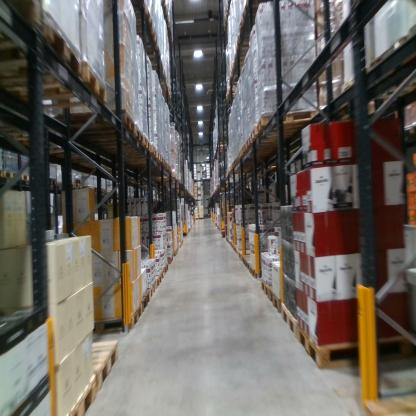pallet: (1, 59, 114, 128), (1, 21, 92, 95), (298, 319, 416, 372), (69, 339, 121, 396), (53, 107, 137, 136), (256, 105, 326, 134), (90, 303, 142, 338), (73, 122, 143, 146), (248, 125, 313, 150), (66, 373, 103, 415), (1, 1, 46, 32), (125, 5, 154, 30), (281, 300, 299, 340), (269, 287, 283, 314), (3, 162, 19, 181), (139, 290, 151, 313), (249, 263, 265, 280), (19, 169, 36, 183), (259, 281, 271, 299), (146, 281, 156, 301), (152, 273, 163, 290), (47, 175, 57, 190), (159, 262, 168, 278), (156, 269, 165, 283), (243, 255, 253, 265), (72, 183, 84, 191), (165, 255, 174, 264), (101, 185, 108, 195), (244, 262, 251, 270), (239, 251, 243, 260)
